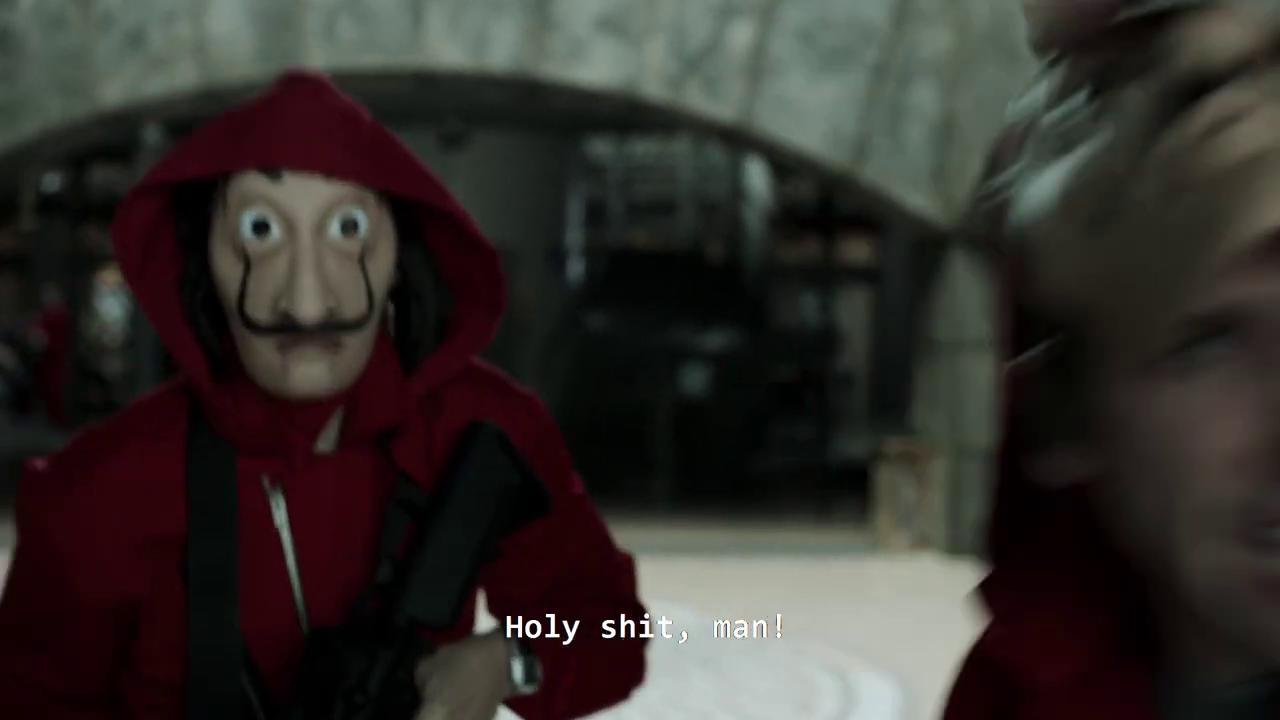criminal: (0, 67, 652, 720)
